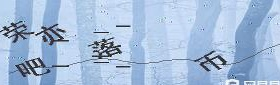chinese: (16, 55, 51, 83), (1, 12, 29, 44), (36, 24, 70, 49), (90, 34, 122, 60), (194, 51, 229, 74)
